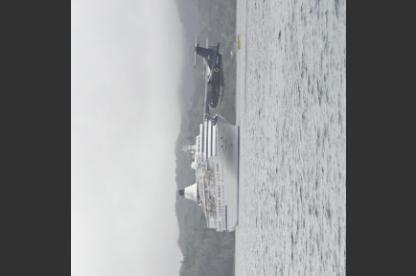Tu95: (192, 32, 224, 126)
